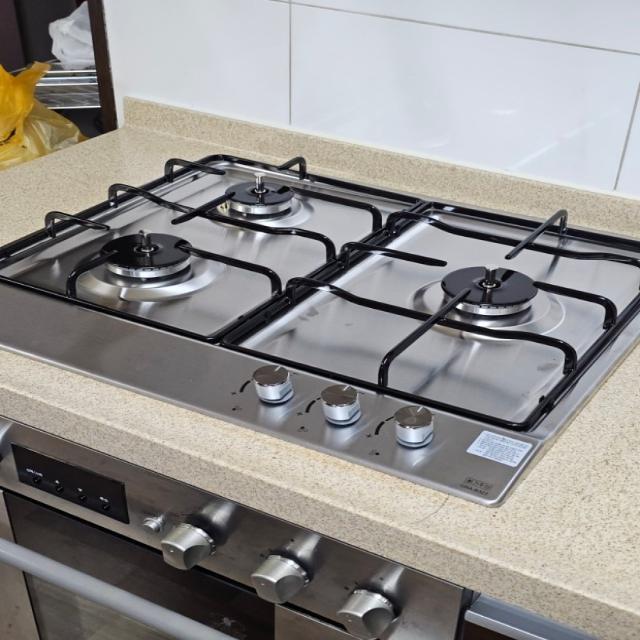knob_ON: (63, 145, 593, 396)
